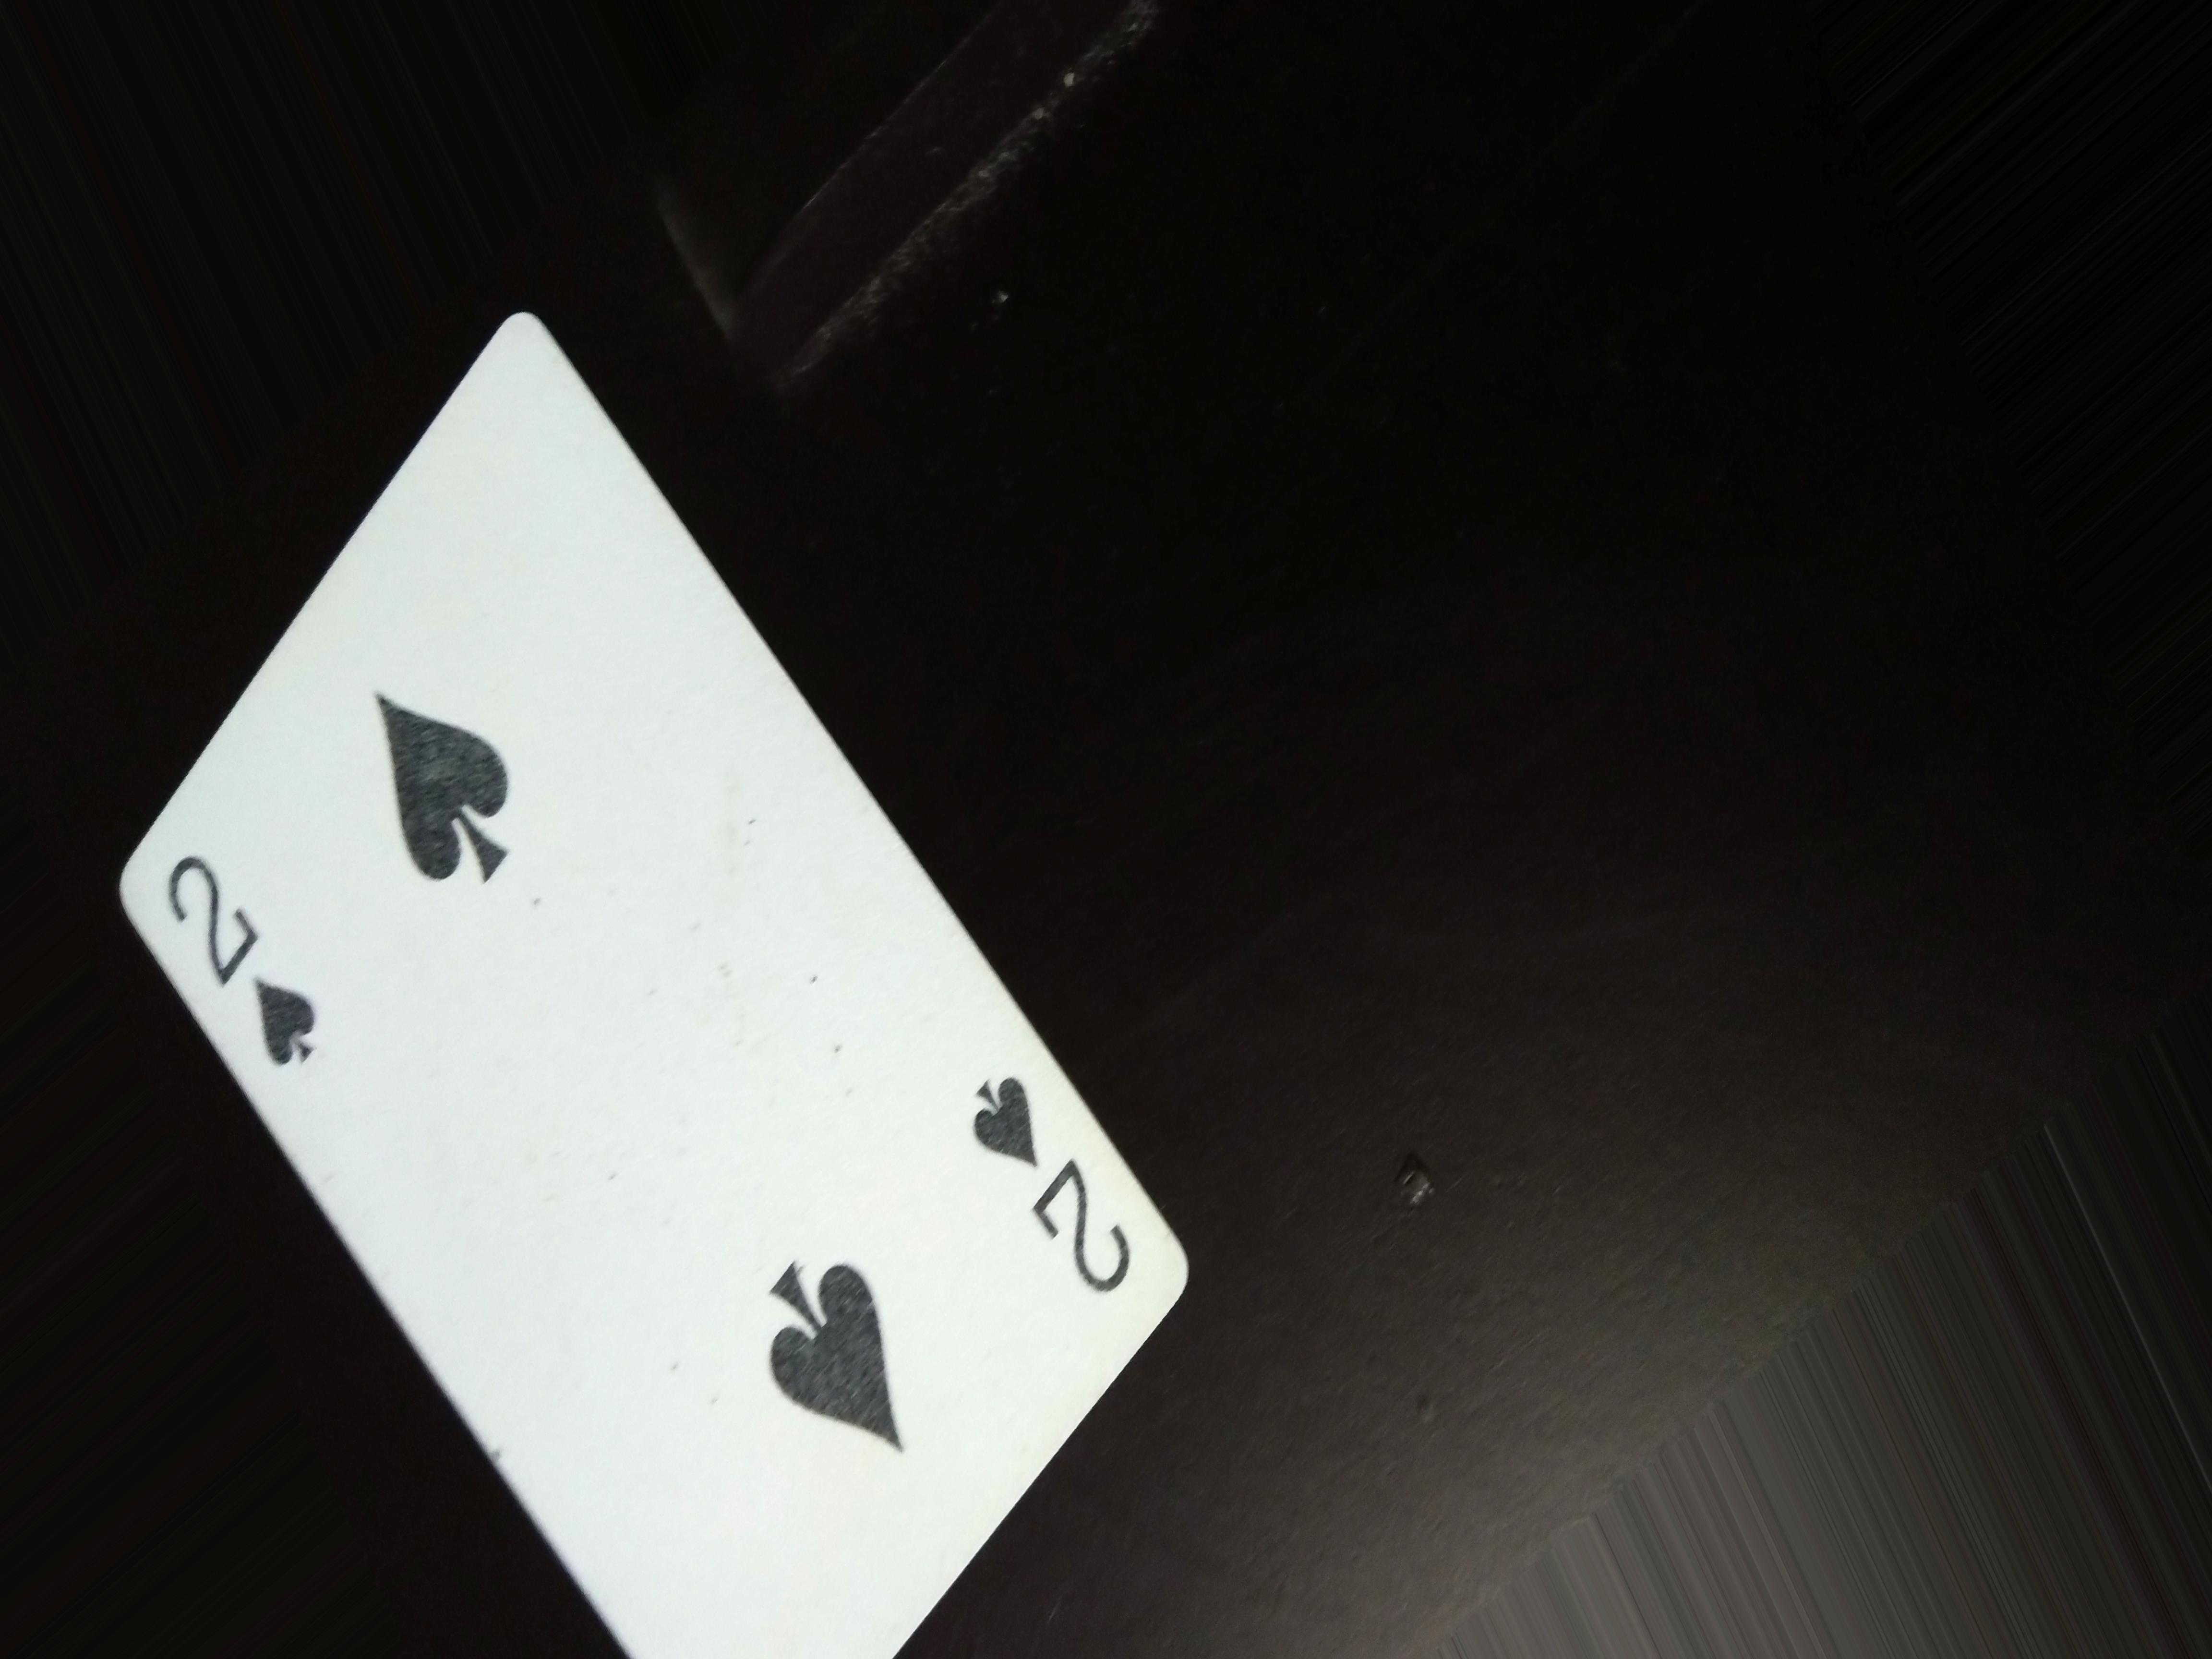2S: (138, 838, 361, 1089)
